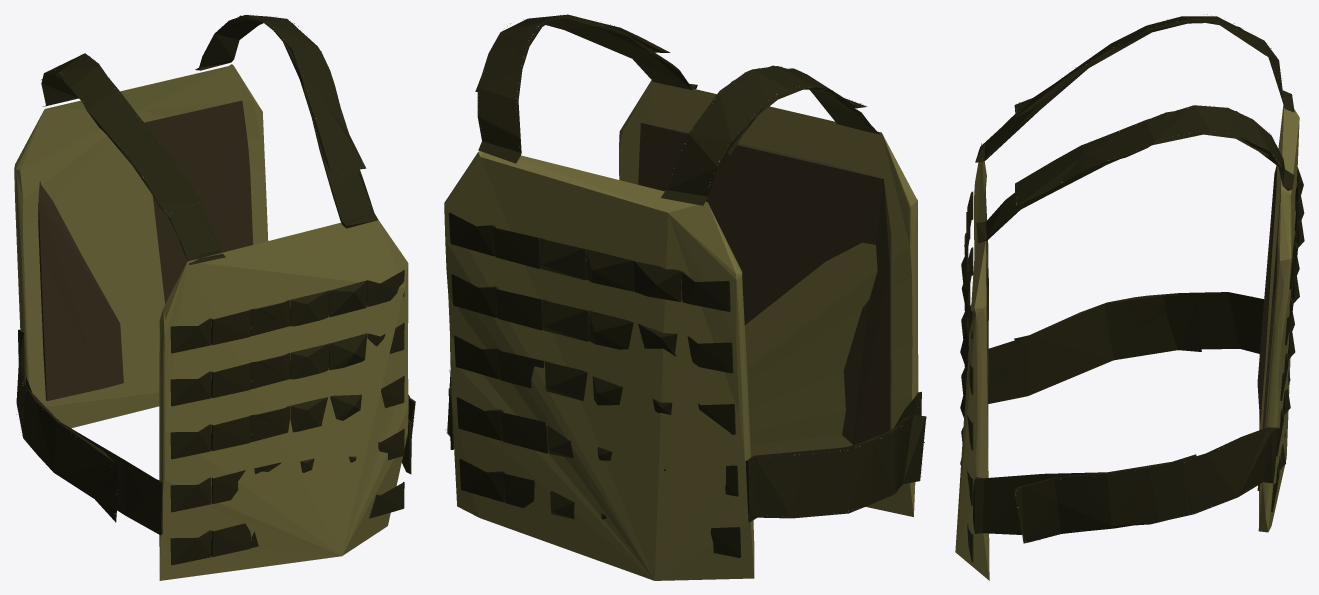
Rendered from ChestRig.obj.
3 renders of one model, left to right at view 1: azimuth 30°, elevation 25°; view 2: azimuth 150°, elevation 25°; view 3: azimuth 270°, elevation 25°, orthographic. The views are drawn at different scales.
Parts seen in each view (by area): view 1: ChestRig_camoarmour.001, ChestRig_stapping1.001, ChestRig_strapping2.001, ChestRig_mesh_padding.001; view 2: ChestRig_camoarmour.001, ChestRig_stapping1.001, ChestRig_strapping2.001, ChestRig_mesh_padding.001; view 3: ChestRig_stapping1.001, ChestRig_camoarmour.001, ChestRig_strapping2.001, ChestRig_mesh_padding.001.
Part boxes in pixels (x1,y1,x2,y2): ChestRig_camoarmour.001: (14,64,408,580); ChestRig_stapping1.001: (16,15,415,535); ChestRig_strapping2.001: (170,270,404,565); ChestRig_mesh_padding.001: (38,100,253,400); ChestRig_camoarmour.001: (444,80,918,580); ChestRig_stapping1.001: (447,14,926,522); ChestRig_strapping2.001: (448,212,741,557); ChestRig_mesh_padding.001: (638,123,891,445); ChestRig_stapping1.001: (973,16,1294,543); ChestRig_camoarmour.001: (955,105,1299,580); ChestRig_strapping2.001: (960,167,1304,561); ChestRig_mesh_padding.001: (984,165,1281,490).
Size of the model in its own units: 0.3837 by 0.4834 by 0.328.
